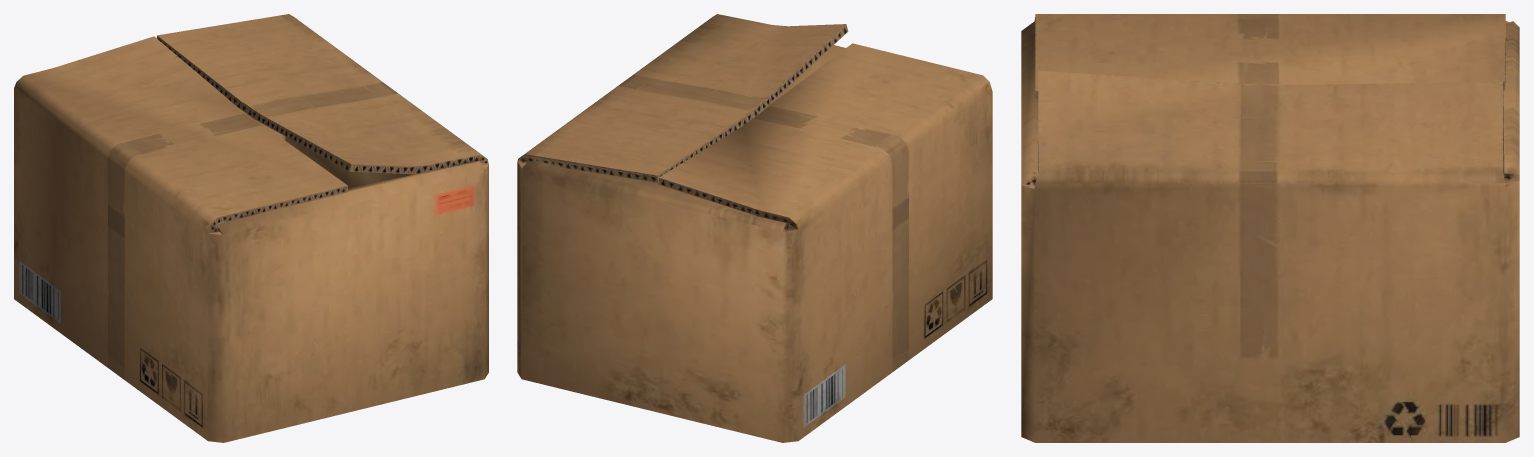
File: carton_closed.glb
3 views of the same model, side by side, from view 1: azimuth 30°, elevation 25°; view 2: azimuth 150°, elevation 25°; view 3: azimuth 270°, elevation 25° (orthographic). The views are drawn at different scales.
Visible parts, largest first — view 1: defaultMaterial; view 2: defaultMaterial; view 3: defaultMaterial.
Part boxes in pixels (left/top/right/bottom): defaultMaterial: left=14, top=14, right=488, bottom=442; defaultMaterial: left=517, top=14, right=992, bottom=442; defaultMaterial: left=1021, top=14, right=1519, bottom=442.
Bounding box in the file's own units: 31.55 × 25.82 × 39.97.
1 material, 1 textured.
